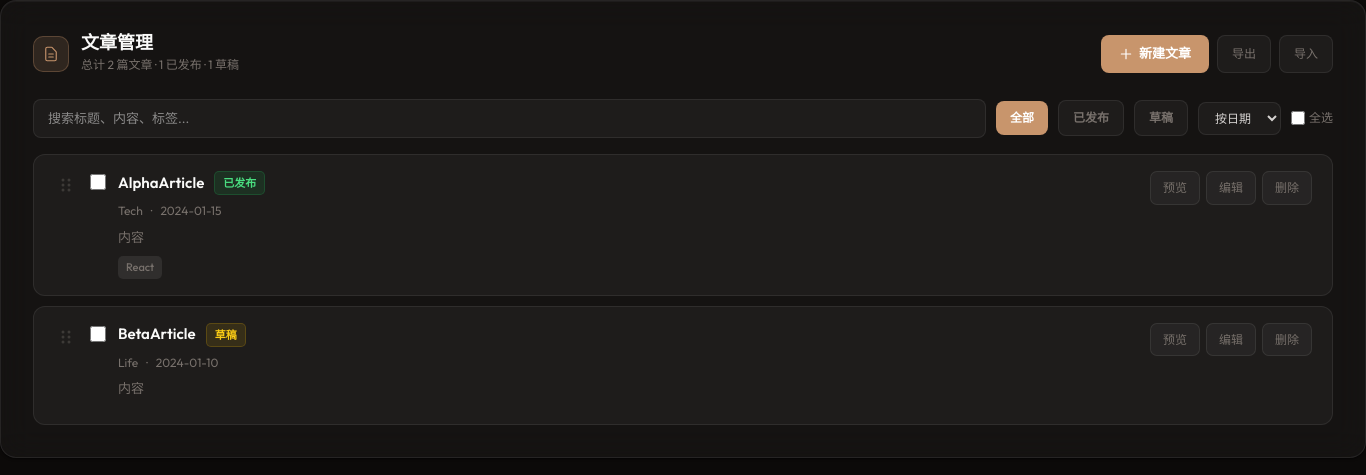
Test case: ContentManager › shows empty state on no match
Expected: the heading "AlphaArticle" is shown, 118,175 -> 204,191
Type "zzzznothing" into the field with placeholder "搜索标题、内容、标签..." at {"x": 509, "y": 118}, box 33,99 -> 986,138
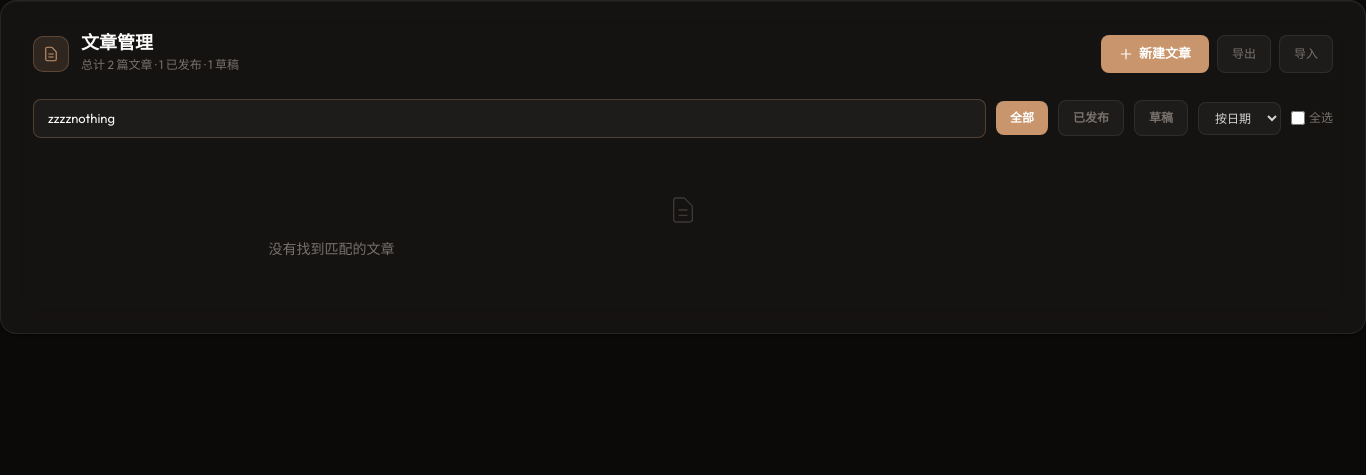
Result: the text "没有找到匹配的文章" is shown at 268,240 -> 394,258
